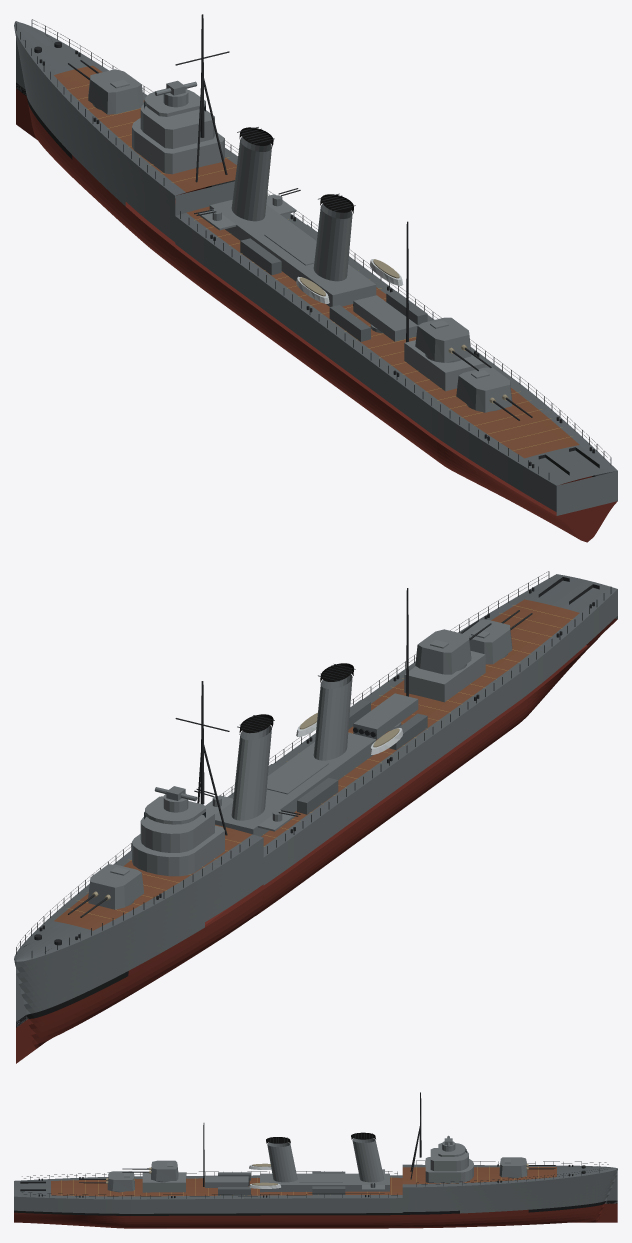
The model's file is kagero.glb.
The picture shows the model from 3 angles, top to bottom: view 1: azimuth 30°, elevation 25°; view 2: azimuth 150°, elevation 25°; view 3: azimuth 270°, elevation 25°; orthographic projection. The views are drawn at different scales.
Parts seen in each view (by area): view 1: Hull, Mount2, Mount1, Mount3, Torpedo2, Torpedo1; view 2: Hull, Mount2, Mount1, Torpedo2, Mount3, Torpedo1; view 3: Hull, Mount2, Mount1, Mount3, Torpedo2, Torpedo1.
Part boxes in pixels (x1,y1,x2,y2): Hull: [14, 14, 617, 542]; Mount2: [415, 317, 491, 371]; Mount1: [68, 60, 143, 114]; Mount3: [456, 367, 532, 420]; Torpedo2: [353, 295, 417, 341]; Torpedo1: [264, 229, 315, 265]; Hull: [14, 571, 617, 1063]; Mount2: [415, 620, 491, 674]; Mount1: [68, 864, 143, 917]; Torpedo2: [353, 693, 418, 739]; Mount3: [462, 610, 532, 664]; Torpedo1: [266, 757, 328, 794]; Hull: [14, 1092, 617, 1228]; Mount2: [122, 1160, 178, 1182]; Mount1: [499, 1157, 555, 1178]; Mount3: [79, 1171, 134, 1192]; Torpedo2: [205, 1176, 249, 1187]; Torpedo1: [299, 1175, 342, 1182].
Size of the model in its own units: 12.4 by 28.16 by 118.
